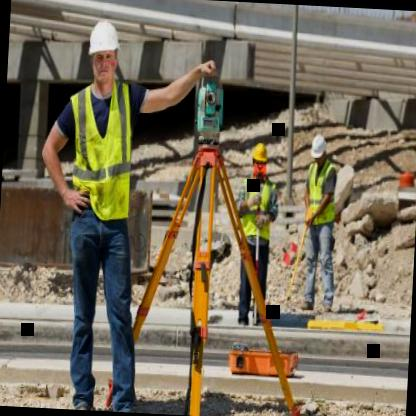helmet: (82, 11, 124, 95), (306, 132, 328, 168), (250, 138, 268, 178)
